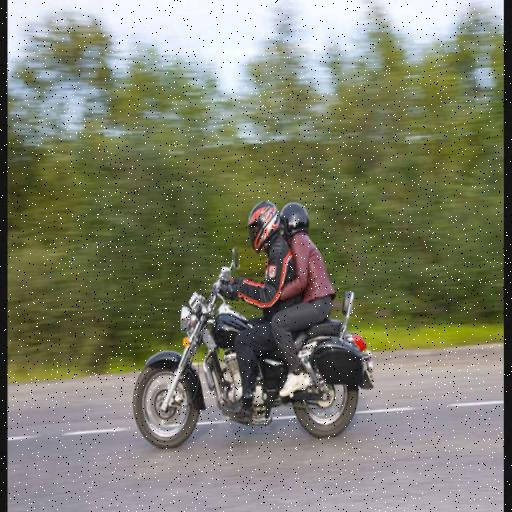Helmet: (241, 194, 279, 254), (279, 194, 313, 250)
Motor: (143, 278, 382, 457)
